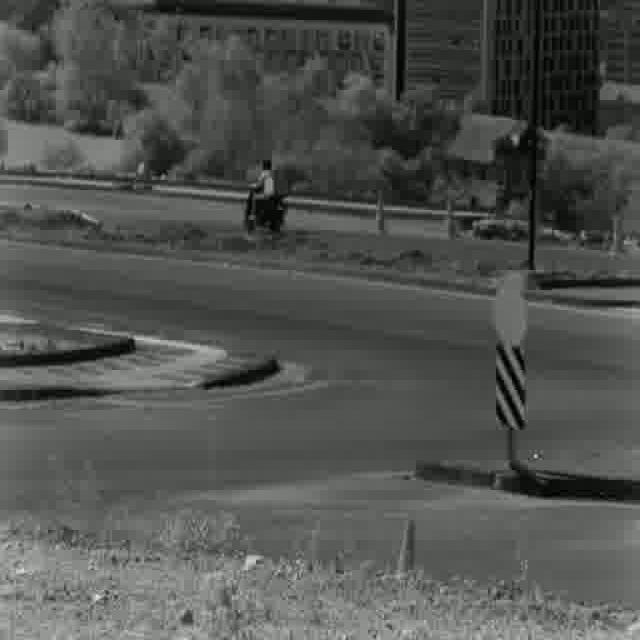Motorcycle: (240, 162, 285, 234)
